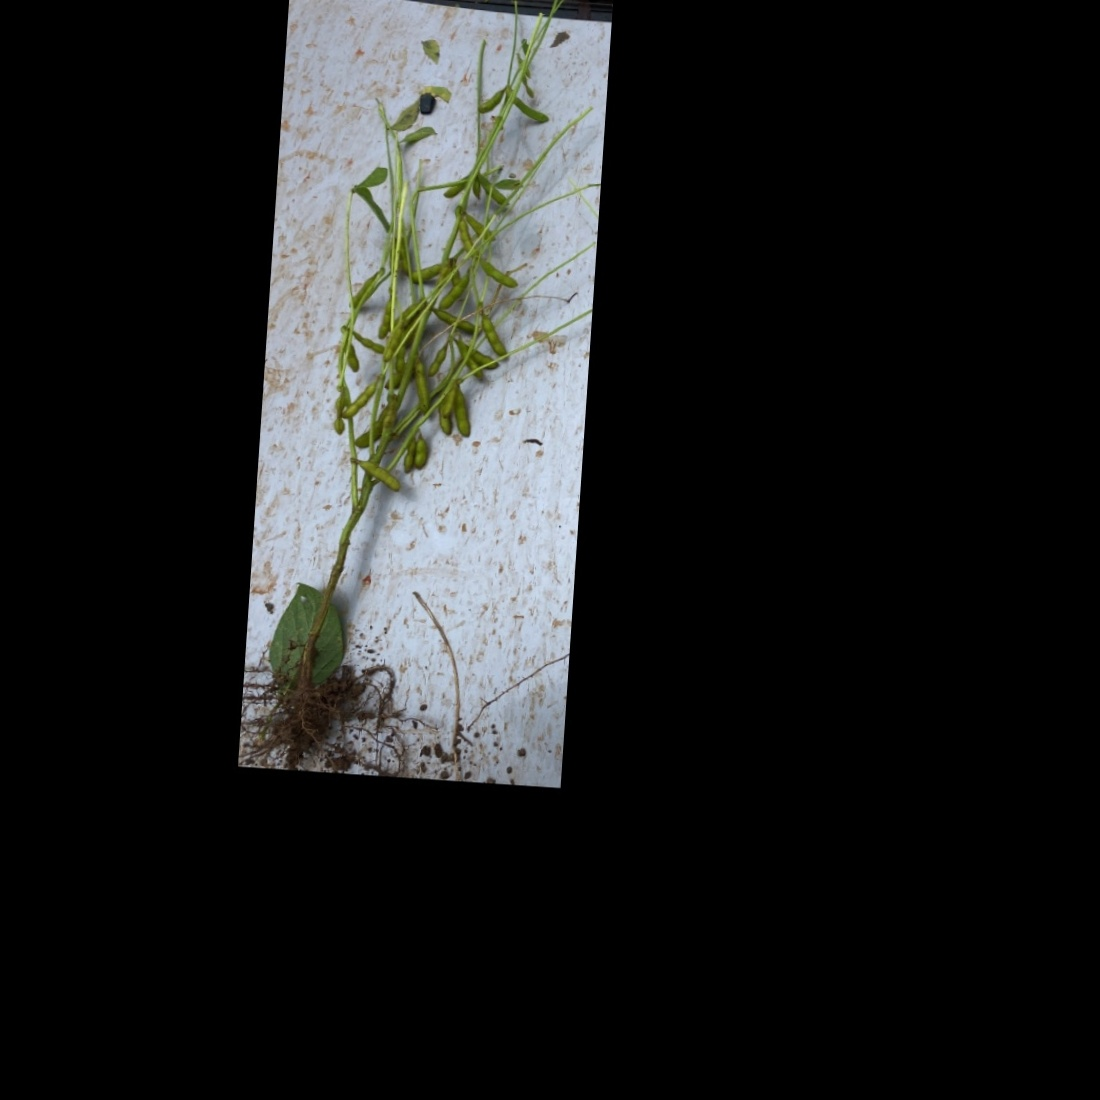pod: (357, 455, 403, 494), (343, 376, 381, 422), (479, 317, 513, 362), (438, 272, 471, 311), (478, 259, 519, 288), (411, 362, 432, 415), (514, 97, 552, 126), (453, 390, 474, 439), (477, 83, 506, 113), (428, 342, 450, 378), (331, 394, 348, 436), (354, 334, 386, 354), (414, 435, 429, 472), (402, 436, 415, 475), (347, 347, 363, 374), (521, 77, 536, 100)
soy: (260, 0, 566, 745)
